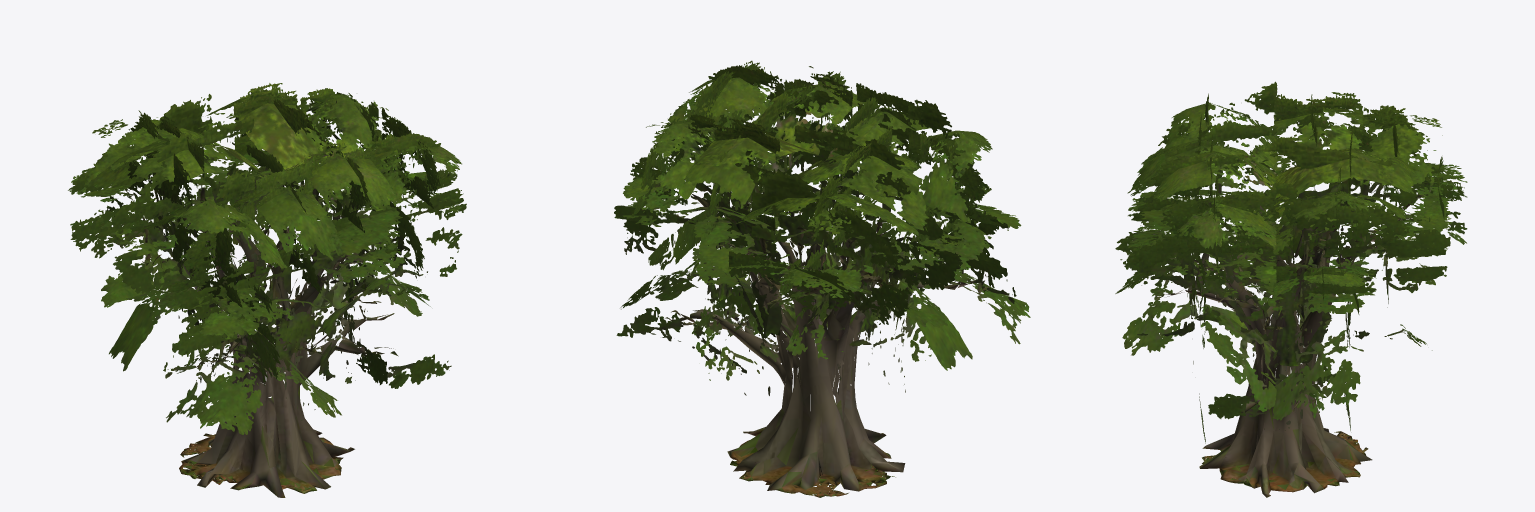
The model's file is tree-0208-mid.glb.
3 views of the same model, side by side, from view 1: azimuth 30°, elevation 25°; view 2: azimuth 150°, elevation 25°; view 3: azimuth 270°, elevation 25° (orthographic). The views are drawn at different scales.
Parts seen in each view (by area): view 1: Foliage, Wood; view 2: Foliage, Wood; view 3: Foliage, Wood.
Part boxes in pixels (x1,y1,x2,y2): Foliage: (68,83,466,434); Wood: (125,174,398,497); Foliage: (614,60,1030,395); Wood: (665,172,989,497); Foliage: (1115,81,1467,443); Wood: (1156,183,1423,497).
Bounding box in the file's own units: 12.5 × 13.22 × 13.3.
Materials: 2 (2 with a texture image).
